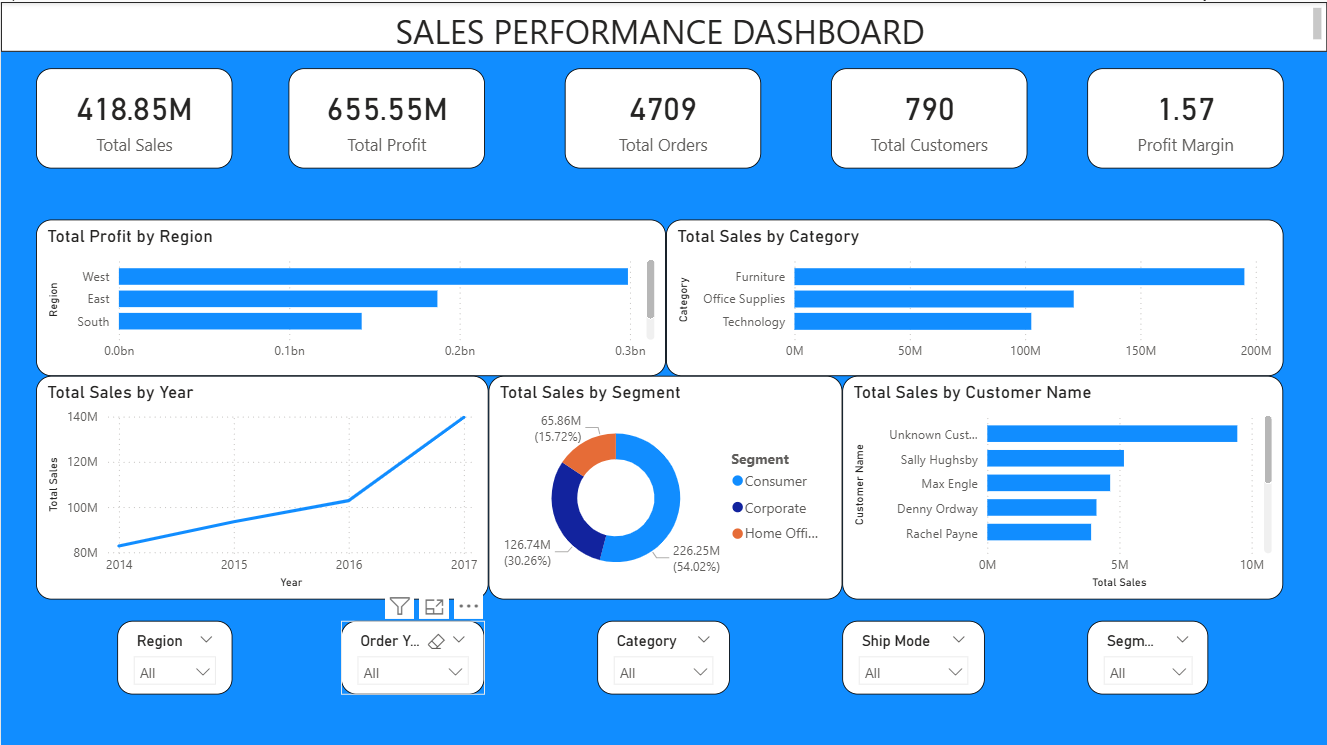

What the dashboard file says about the page in this screenshot:
{"tool":"powerbi","page":{"name":"Page 1","canvas":[1280,720],"ordinal":0},"visuals":[{"type":"textbox","box":[0,0,1280.3,48],"z":0},{"type":"card","fields":{"Values":["superstore_clean.Total Sales"]},"box":[33.8,63.9,189.4,96.5],"z":1000},{"type":"donutChart","fields":{"Category":["superstore_clean.Segment"],"Y":["superstore_clean.Total Sales"]},"box":[470.5,360.7,341.4,216],"z":2000},{"type":"card","fields":{"Values":["superstore_clean.Total Profit"]},"box":[277.5,63.9,189.4,96.5],"z":3000},{"type":"card","fields":{"Values":["superstore_clean.Total Orders"]},"box":[544.1,63.9,189.4,96.5],"z":4000},{"type":"card","fields":{"Values":["superstore_clean.Total Customers"]},"box":[801.1,63.9,189.4,96.5],"z":5000},{"type":"card","fields":{"Values":["superstore_clean.Profit Margin"]},"box":[1048.4,63.9,189.4,96.5],"z":6000},{"type":"clusteredBarChart","fields":{"Category":["superstore_clean.Region"],"Y":["superstore_clean.Total Profit"]},"box":[33.8,209.9,608,150.8],"z":7000},{"type":"clusteredBarChart","fields":{"Category":["superstore_clean.Category"],"Y":["superstore_clean.Total Sales"]},"box":[641.8,209.9,596,150.8],"z":8000},{"type":"barChart","fields":{"Category":["superstore_clean.Customer Name"],"Y":["superstore_clean.Total Sales"]},"box":[811.9,360.7,425.9,216],"z":9000},{"type":"lineChart","fields":{"Category":["superstore_clean.Order Date.Variation.Date Hierarchy.Year","superstore_clean.Order Date.Variation.Date Hierarchy.Quarter","superstore_clean.Order Date.Variation.Date Hierarchy.Month","superstore_clean.Order Date.Variation.Date Hierarchy.Day"],"Y":["superstore_clean.Total Sales"]},"box":[33.8,360.7,436.7,216],"z":10000},{"type":"slicer","fields":{"Values":["superstore_clean.Order Year"]},"box":[328.2,597.2,138.7,71.2],"z":11000},{"type":"slicer","fields":{"Values":["superstore_clean.Region"]},"box":[112.2,597.2,111,71.2],"z":12000},{"type":"slicer","fields":{"Values":["superstore_clean.Category"]},"box":[575.5,597.2,127.9,71.2],"z":13000},{"type":"slicer","fields":{"Values":["superstore_clean.Segment"]},"box":[1048.4,597.2,117,71.2],"z":14000},{"type":"slicer","fields":{"Values":["superstore_clean.Ship Mode"]},"box":[811.9,597.2,137.5,71.2],"z":15000}]}

Visuals, with their boxes in screenshot pixels (x1, y1, x2, y2), scaled from the page's 1280x720 canvas onto the 1327x745 screenshot:
textbox: rect(0, 0, 1326, 50)
card - superstore_clean.Total Sales: rect(35, 66, 231, 166)
donutChart - superstore_clean.Segment x superstore_clean.Total Sales: rect(488, 373, 842, 597)
card - superstore_clean.Total Profit: rect(288, 66, 484, 166)
card - superstore_clean.Total Orders: rect(564, 66, 760, 166)
card - superstore_clean.Total Customers: rect(831, 66, 1027, 166)
card - superstore_clean.Profit Margin: rect(1087, 66, 1283, 166)
clusteredBarChart - superstore_clean.Region x superstore_clean.Total Profit: rect(35, 217, 665, 373)
clusteredBarChart - superstore_clean.Category x superstore_clean.Total Sales: rect(665, 217, 1283, 373)
barChart - superstore_clean.Customer Name x superstore_clean.Total Sales: rect(842, 373, 1283, 597)
lineChart - superstore_clean.Order Date.Variation.Date Hierarchy.Year x superstore_clean.Order Date.Variation.Date Hierarchy.Quarter: rect(35, 373, 488, 597)
slicer - superstore_clean.Order Year: rect(340, 618, 484, 692)
slicer - superstore_clean.Region: rect(116, 618, 231, 692)
slicer - superstore_clean.Category: rect(597, 618, 729, 692)
slicer - superstore_clean.Segment: rect(1087, 618, 1208, 692)
slicer - superstore_clean.Ship Mode: rect(842, 618, 984, 692)
